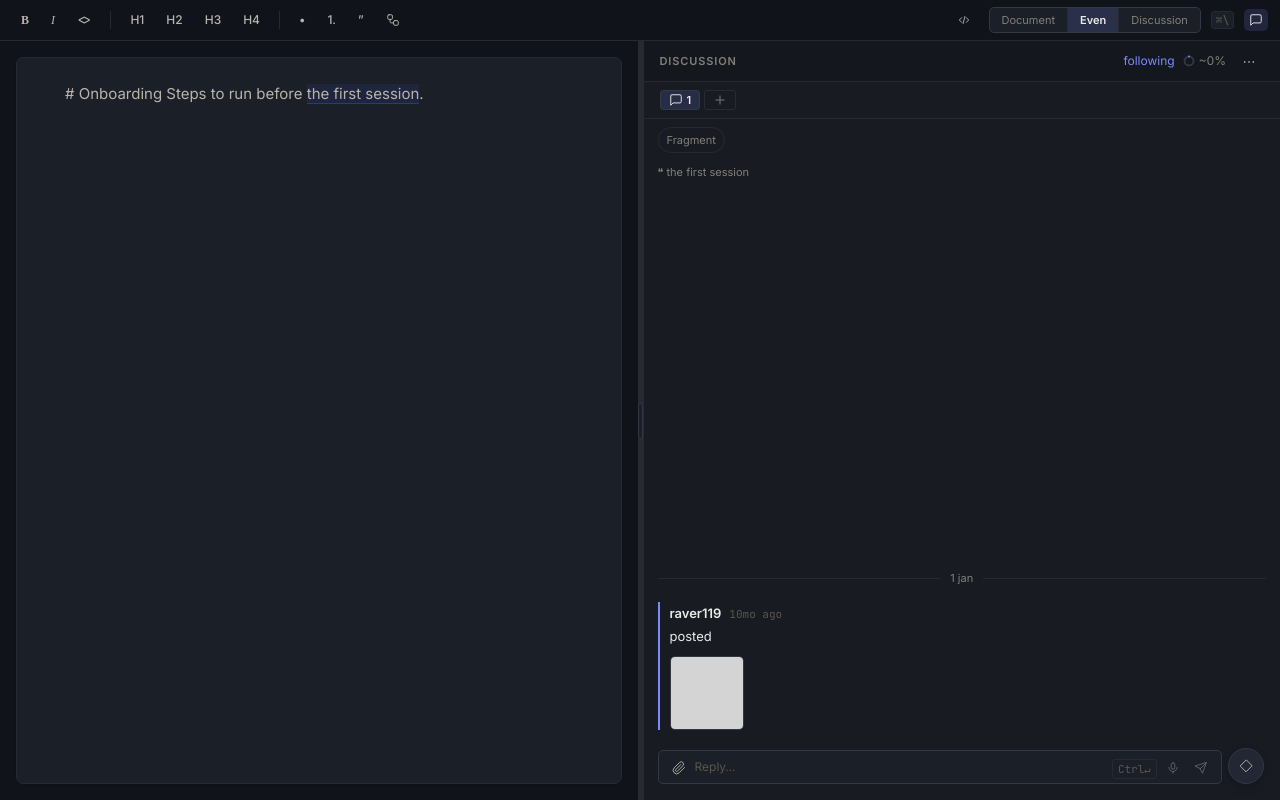
Test: CMT-FR-14 / CMT-FR-50: an attachment is immutable with its comment › offers nothing anywhere to remove, replace, or re-order one
Expected: the element named "artifact body" is shown, top-left (65, 84), bottom-right (424, 104)
Step 1. Click the button named "Thread actions" → x=1249, y=61, box top-left (1234, 47), bottom-right (1264, 75)
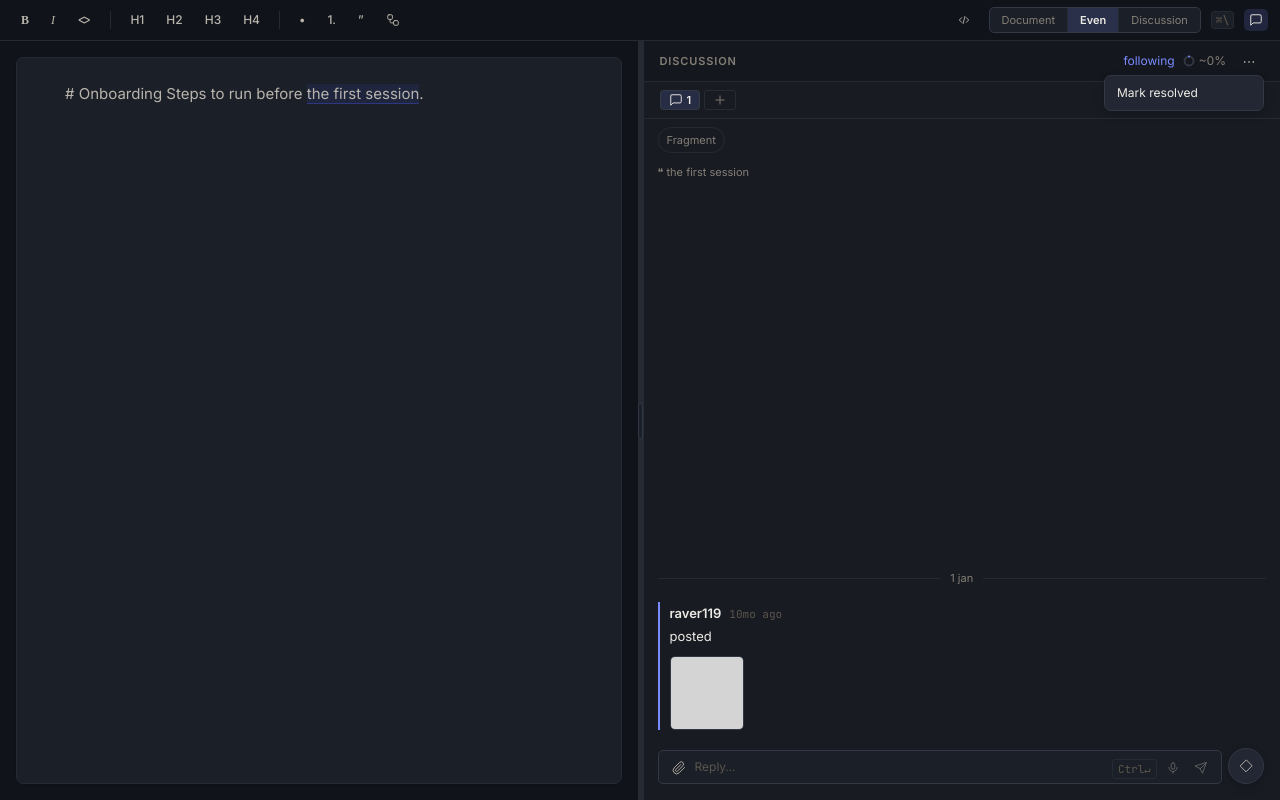
Expected: the menu does not show "attach", top-left (1104, 75), bottom-right (1264, 111)
Expected: the number of menu items is 1, top-left (1109, 80), bottom-right (1259, 106)
